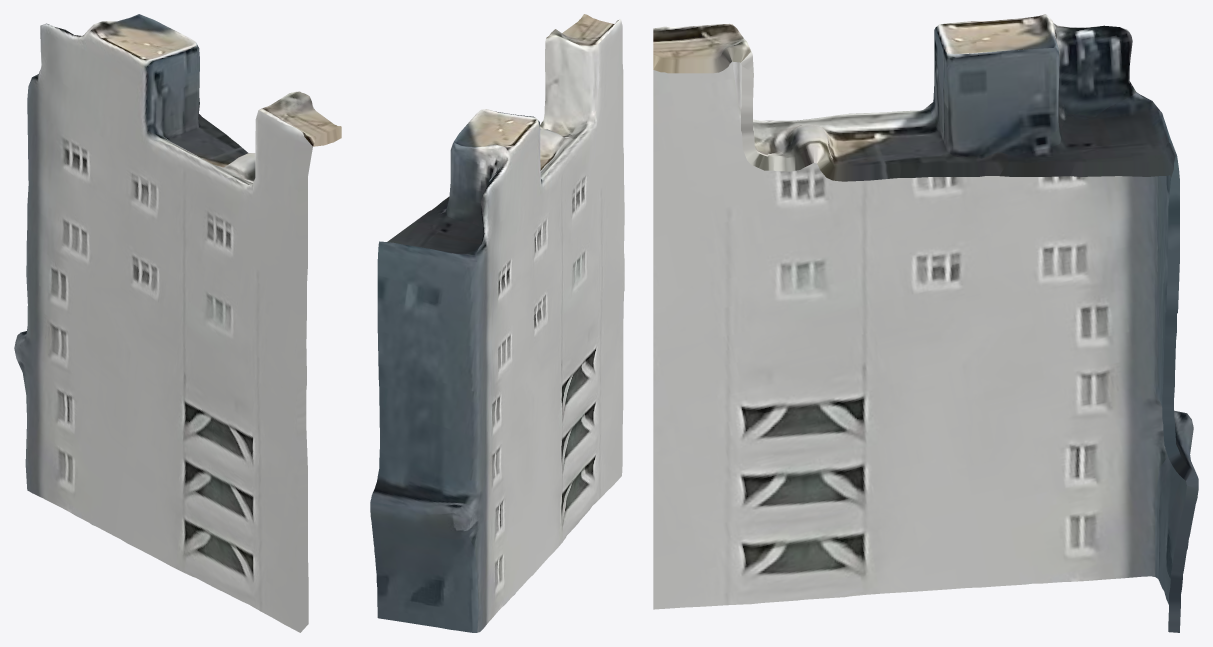
The model's file is z20-167752-405244-h1-yup-uvflip-v3-world.glb.
3 renders of one model, left to right at view 1: azimuth 30°, elevation 25°; view 2: azimuth 150°, elevation 25°; view 3: azimuth 270°, elevation 25°, orthographic. The views are drawn at different scales.
Bounding box in the file's own units: 5.52 × 26.2 × 22.12.
Materials: 1 (1 with a texture image).
